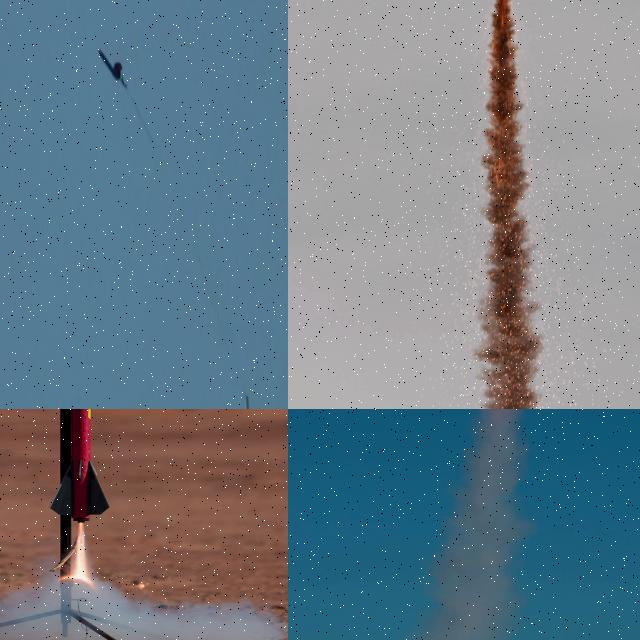Rocket: (48, 409, 109, 524), (244, 392, 257, 409)
